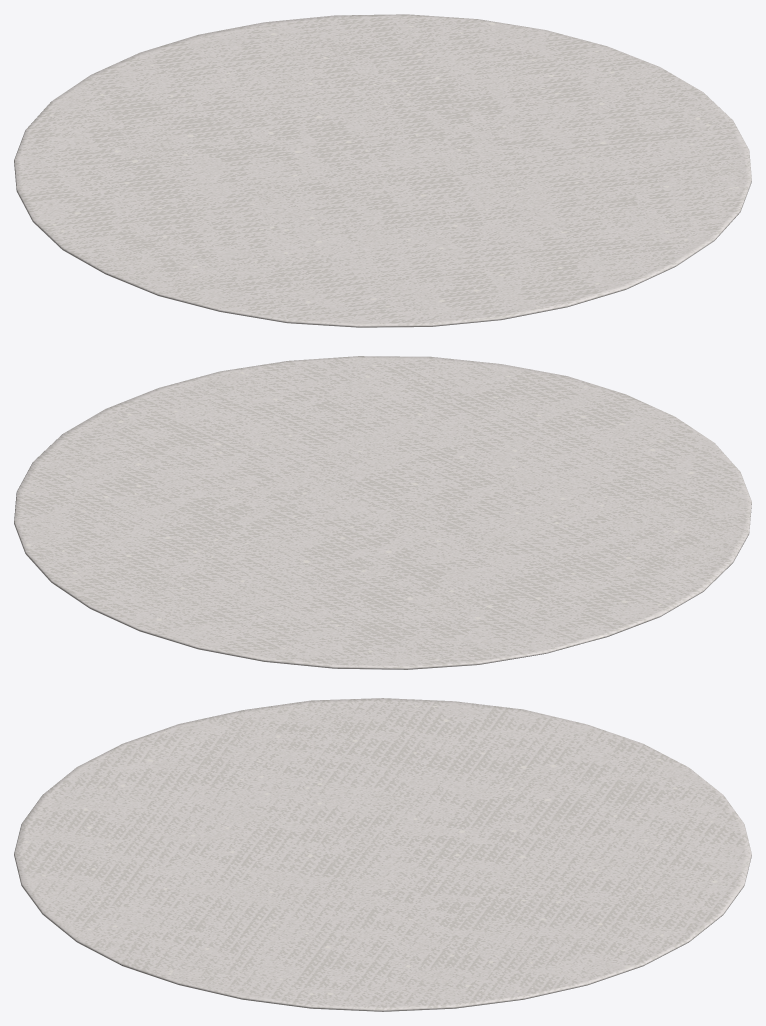
Rendered from Carpet1.fbx.
3 renders of one model, top to bottom at view 1: azimuth 30°, elevation 25°; view 2: azimuth 150°, elevation 25°; view 3: azimuth 270°, elevation 25°, orthographic.
Visible parts, largest first — view 1: Rug 008; view 2: Rug 008; view 3: Rug 008.
Boxes of the visible parts, left/top/right/bottom form: Rug 008: left=14, top=14, right=751, bottom=327; Rug 008: left=14, top=356, right=751, bottom=669; Rug 008: left=14, top=698, right=751, bottom=1011.
Bounding box in the file's own units: 330 × 1.86 × 330.
